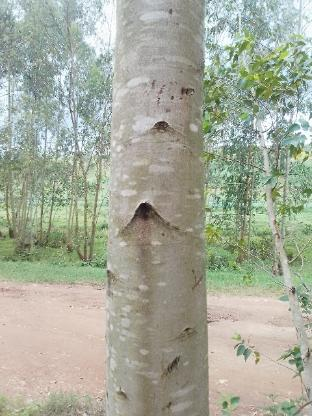tree: (100, 0, 221, 416)
